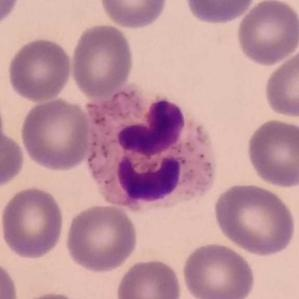Neutrophil: (79, 90, 226, 217)
RBC: (211, 181, 298, 257), (18, 96, 94, 173), (63, 202, 140, 274), (69, 22, 136, 99), (0, 184, 66, 260), (5, 36, 74, 103), (180, 240, 257, 299), (234, 0, 299, 66), (244, 117, 299, 189), (114, 256, 184, 299), (262, 47, 299, 120), (97, 0, 170, 31), (183, 0, 258, 26), (0, 127, 27, 191), (0, 258, 20, 299), (13, 289, 88, 299), (0, 0, 23, 28), (0, 93, 7, 166)
